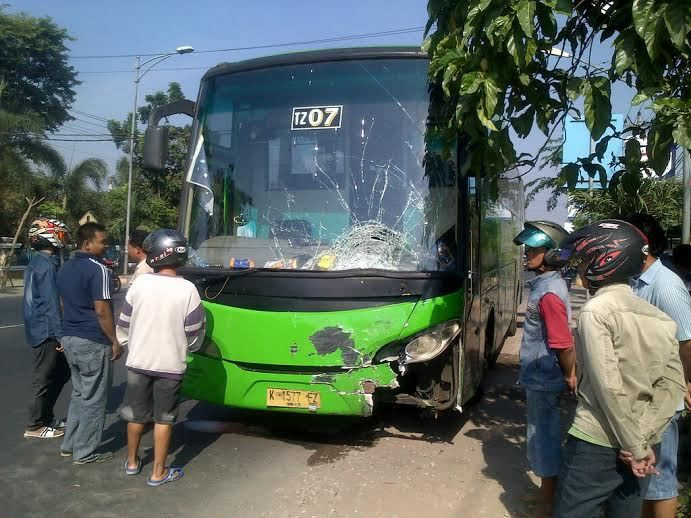plate: (268, 391, 317, 407)
